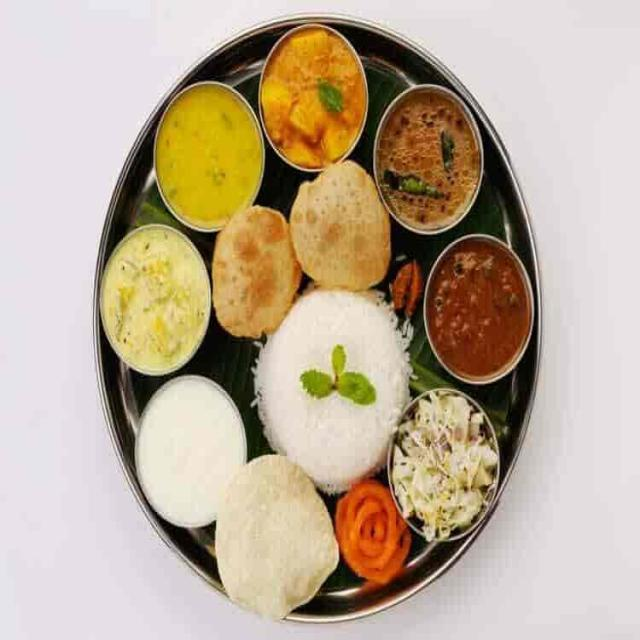dal: (153, 87, 265, 215)
papad: (291, 162, 391, 291)
rice: (253, 287, 408, 477), (390, 393, 504, 538)
sambar-rasam: (122, 368, 251, 529), (423, 231, 534, 378)
sweet: (124, 375, 248, 525)
veg-fry: (253, 12, 372, 168)
